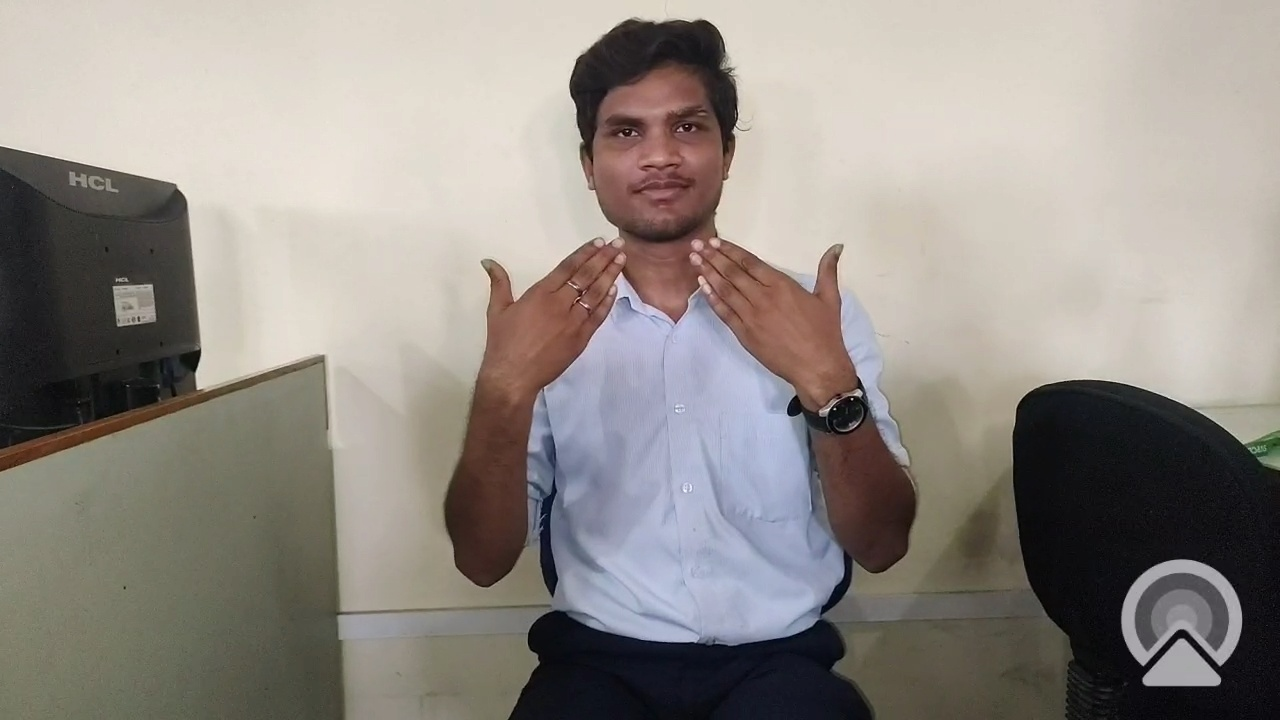Thank you: (441, 229, 911, 535)
